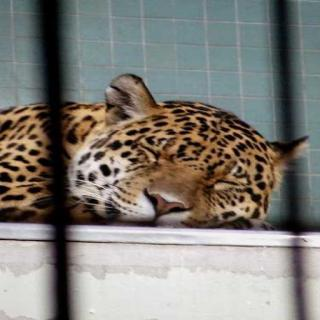Leopard: (0, 58, 315, 221)
